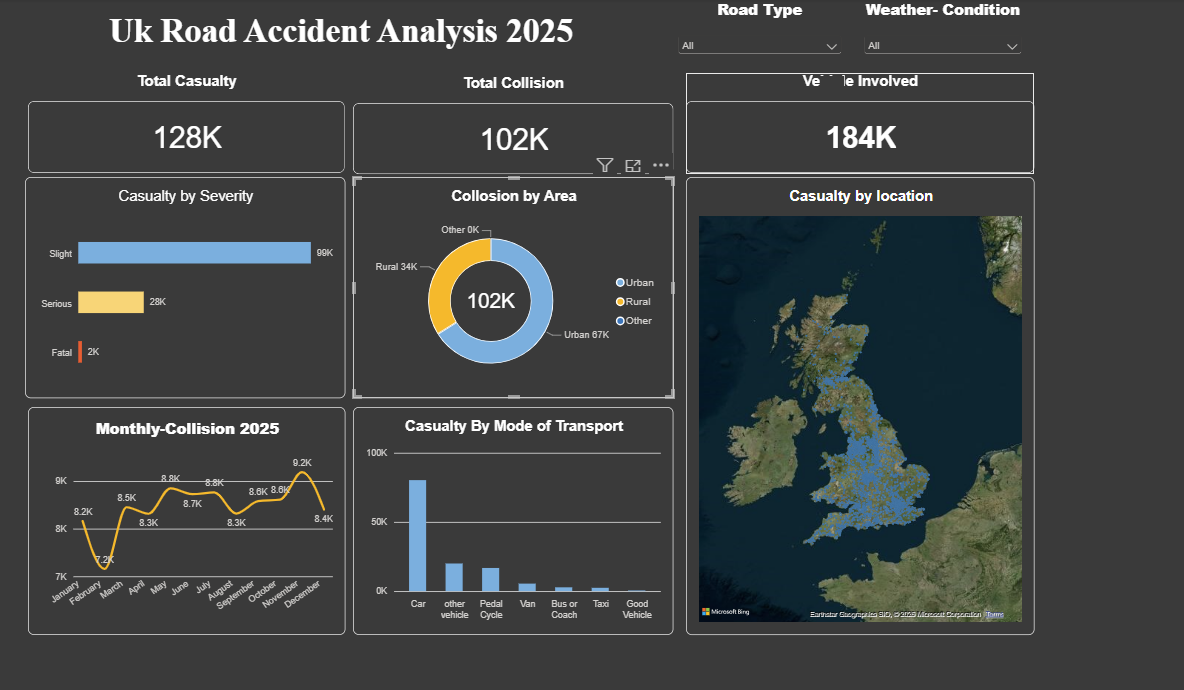

Layout of this report page (visuals, bound fields, positions):
{"tool":"powerbi","page":{"name":"Page 1","canvas":[1920,1080],"ordinal":0},"visuals":[{"type":"cardVisual","title":"Total Casualty","fields":{"Data":["casualty.Total-casualty"]},"box":[37.9,100.7,428.9,135.7],"z":0},{"type":"cardVisual","title":"Total Collision","fields":{"Data":["collision.Total-collosion"]},"box":[477.1,102.1,433.3,134.2],"z":1000},{"type":"cardVisual","title":" Vehicle Involved","fields":{"Data":["vehicle.vehicle-involved"]},"box":[926.4,100.7,471.2,135.7],"z":2000},{"type":"clusteredBarChart","title":"Casualty by Severity ","fields":{"Category":["casualty.Severity label"],"Y":["casualty.Total-casualty"]},"box":[33.6,240.7,433.3,299.1],"z":3000},{"type":"map","title":"Casualty by location","fields":{"Size":["casualty.Total-casualty"],"X":["collision.longitude"],"Y":["collision.latitude"]},"box":[926.4,240.7,471.2,618.6],"z":4000},{"type":"donutChart","title":"Collosion by Area","fields":{"Category":["collision.Urban-rural-label"],"Y":["collision.Total-collosion"]},"box":[477.1,240.7,433.3,299.1],"z":5000},{"type":"lineChart","title":"Monthly-Collision 2025","fields":{"Category":["collision.date.Variation.Date Hierarchy.Month"],"Y":["collision.Total-collosion"]},"box":[37.9,551.5,428.9,307.8],"z":7000},{"type":"slicer","title":"Weather- Condition","fields":{"Values":["collision.dax  Weather Group"]},"box":[1162.8,0,223.9,102.2],"z":8000},{"type":"slicer","title":"Road Type","fields":{"Values":["collision.Road type label"]},"box":[910.4,0,231.5,102.2],"z":9000},{"type":"textbox","title":"Uk Road Accident Analysis 2025","box":[10.2,17.5,900.2,65.7],"z":10000},{"type":"columnChart","title":"Casualty By Mode of Transport","fields":{"Category":["Merge1.vehicle.vehicaltypechanges"],"Y":["CountNonNull(Merge1.casualty_reference)"]},"box":[477.1,551.5,433.3,307.8],"z":11000}]}

Visuals, with their boxes on the page's 1920x1080 design canvas (x1, y1, x2, y2). These are canvas units, not pixel positions in the 1184x690 screenshot, which may show the page scaled, cropped or inside an application window:
"Total Casualty" cardVisual: Rect(38, 101, 467, 236)
"Total Collision" cardVisual: Rect(477, 102, 910, 236)
" Vehicle Involved" cardVisual: Rect(926, 101, 1398, 236)
"Casualty by Severity " clusteredBarChart: Rect(34, 241, 467, 540)
"Casualty by location" map: Rect(926, 241, 1398, 859)
"Collosion by Area" donutChart: Rect(477, 241, 910, 540)
"Monthly-Collision 2025" lineChart: Rect(38, 552, 467, 859)
"Weather- Condition" slicer: Rect(1163, 0, 1387, 102)
"Road Type" slicer: Rect(910, 0, 1142, 102)
"Uk Road Accident Analysis 2025" textbox: Rect(10, 18, 910, 83)
"Casualty By Mode of Transport" columnChart: Rect(477, 552, 910, 859)
